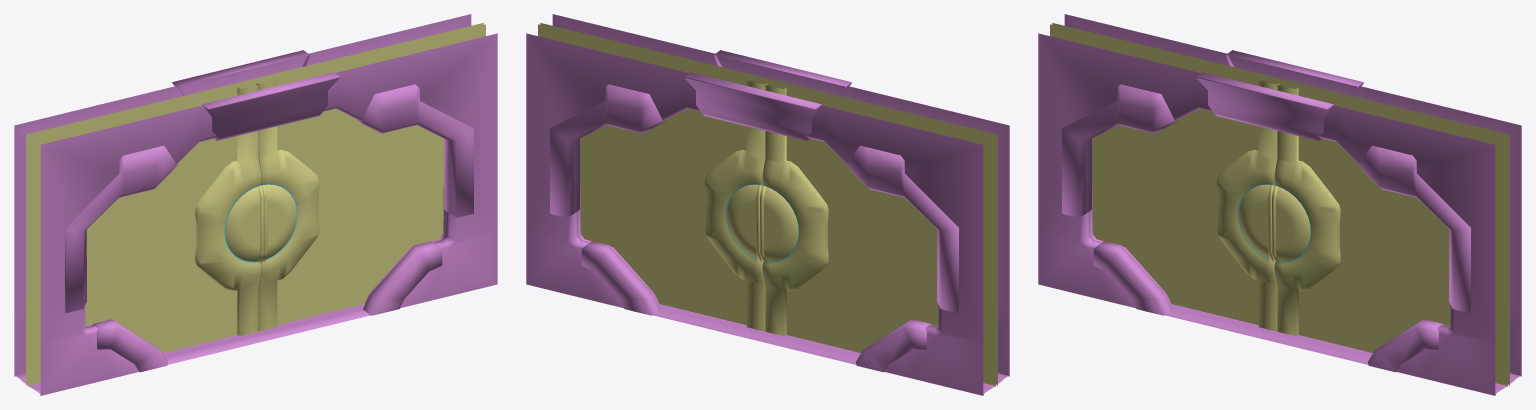
The model's file is Doorway.fbx.
3 renders of one model, left to right at view 1: azimuth 30°, elevation 25°; view 2: azimuth 150°, elevation 25°; view 3: azimuth 330°, elevation 25°, orthographic.
Parts seen in each view (by area): view 1: Doorway, DoorLeft, DoorRight, DoorLeftHalfCircle, DoorRightHalfCircle; view 2: Doorway, DoorLeft, DoorRight, DoorLeftHalfCircle, DoorRightHalfCircle; view 3: Doorway, DoorRight, DoorLeft, DoorRightHalfCircle, DoorLeftHalfCircle.
Boxes of the visible parts, left/top/right/bottom form: Doorway: left=14, top=14, right=497, bottom=395; DoorLeft: left=26, top=78, right=261, bottom=386; DoorRight: left=254, top=23, right=485, bottom=331; DoorLeftHalfCircle: left=225, top=185, right=263, bottom=262; DoorRightHalfCircle: left=261, top=184, right=296, bottom=261; Doorway: left=526, top=14, right=1009, bottom=395; DoorLeft: left=762, top=78, right=997, bottom=386; DoorRight: left=538, top=23, right=769, bottom=331; DoorLeftHalfCircle: left=760, top=185, right=798, bottom=262; DoorRightHalfCircle: left=727, top=184, right=762, bottom=261; Doorway: left=1038, top=14, right=1521, bottom=395; DoorRight: left=1274, top=78, right=1509, bottom=386; DoorLeft: left=1050, top=23, right=1281, bottom=331; DoorRightHalfCircle: left=1272, top=185, right=1310, bottom=262; DoorLeftHalfCircle: left=1239, top=184, right=1274, bottom=261.
Size of the model in its own units: 8.01 by 4.35 by 1.1.
